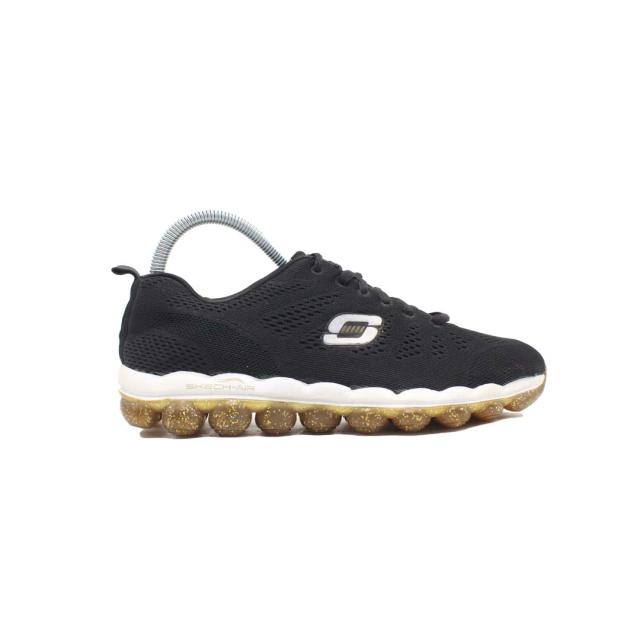heel: (105, 251, 155, 372)
midsole: (112, 374, 553, 439)
uppersole: (158, 261, 558, 384)
